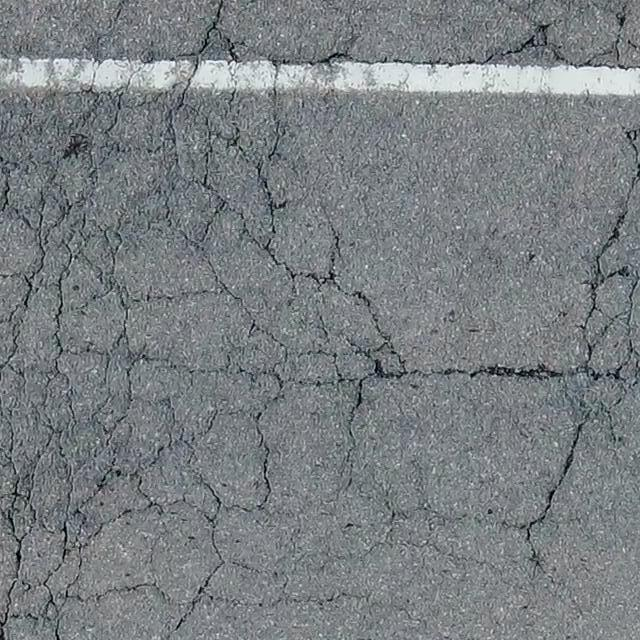GRIETA: (291, 23, 552, 68), (546, 46, 639, 71)
PIEL DE COCODRILO: (0, 1, 639, 639)
